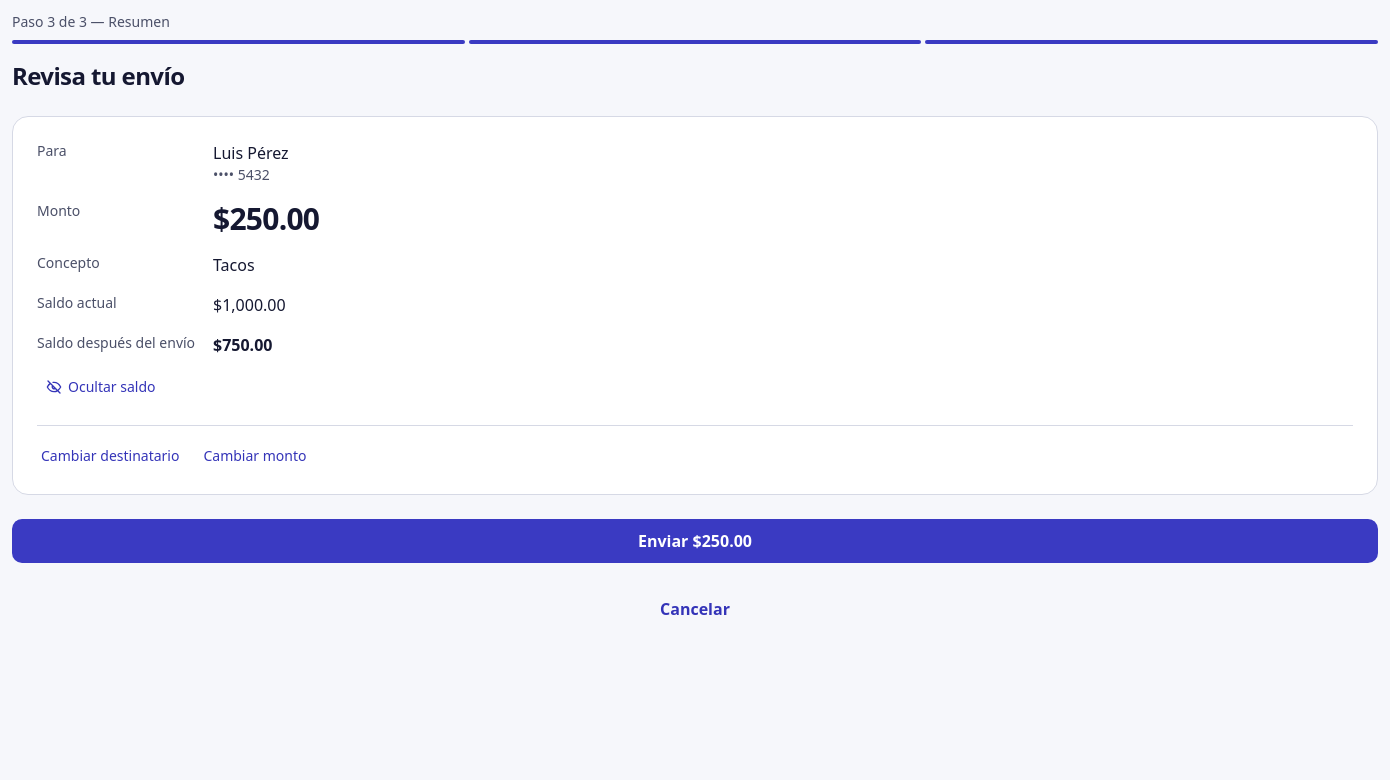
Test: [TC-COMP-14] Confirmation views › [UIR-CONF-06][AC-CONF-08] unresolved: safe-retry explanation, never asserts the result
Click the button "Enviar $250.00".
click(695, 541)  # box [12,519,1378,563]
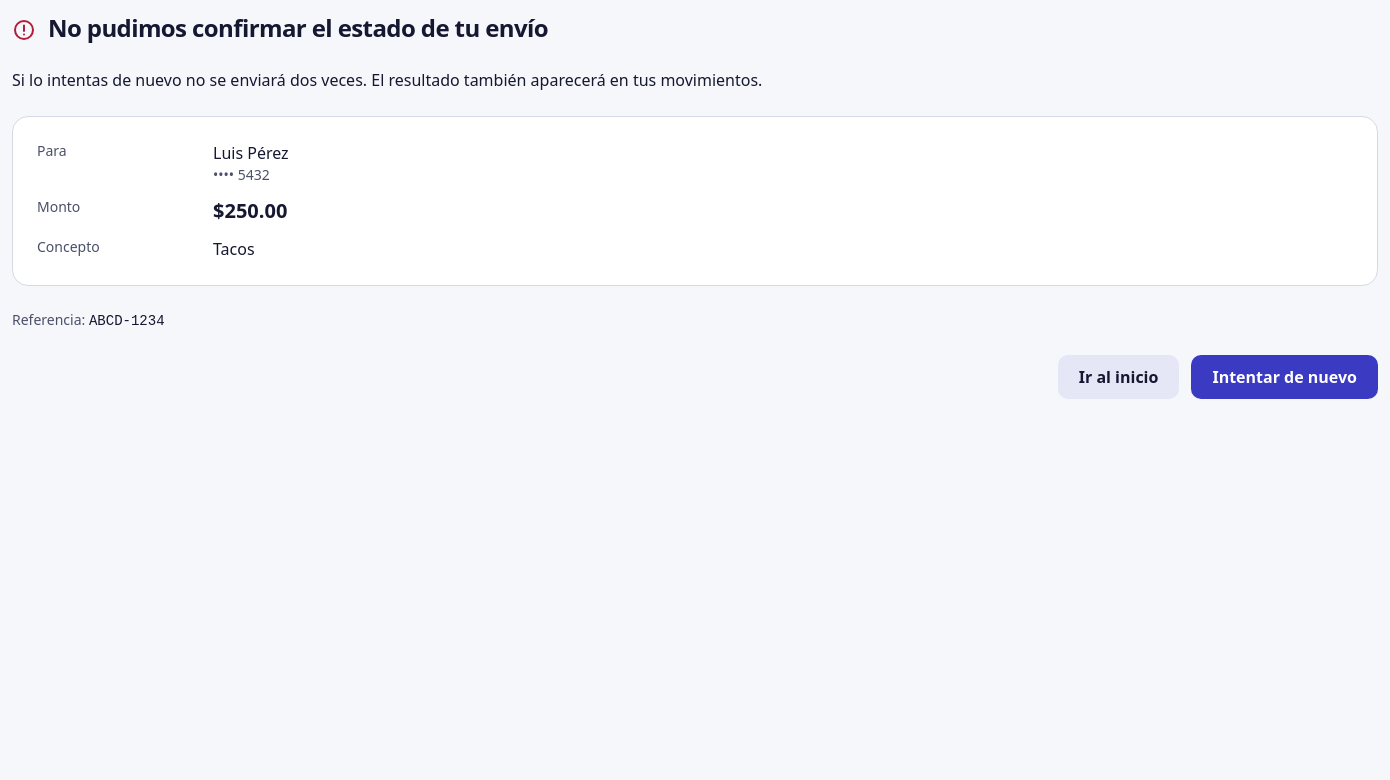
Expected: the text "no se enviará dos veces" is shown, [12,69,762,91]
Expected: the button "Intentar de nuevo" is shown, [1191,355,1378,399]
Expected: the button "Ir al inicio" is shown, [1058,355,1179,399]
